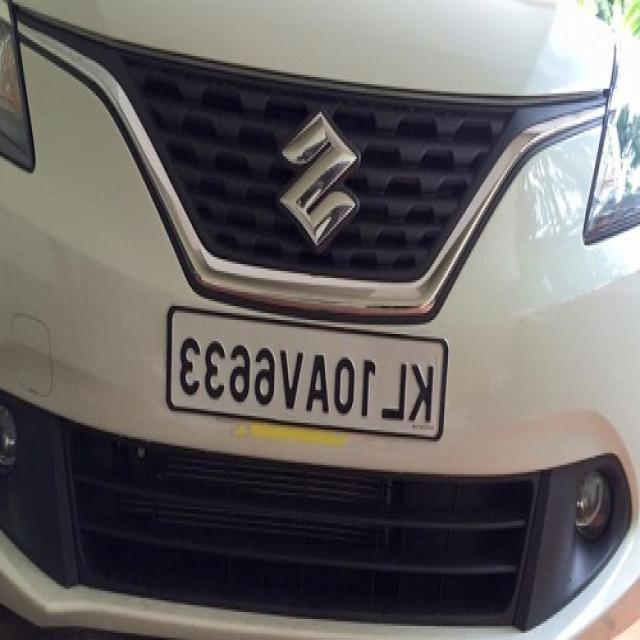number-plate: (172, 336, 447, 420)
